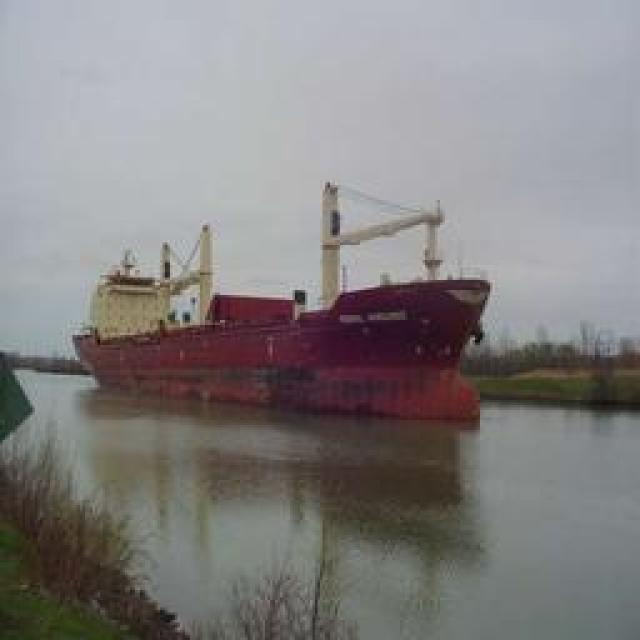CIV_Ship: (74, 248, 492, 411)
